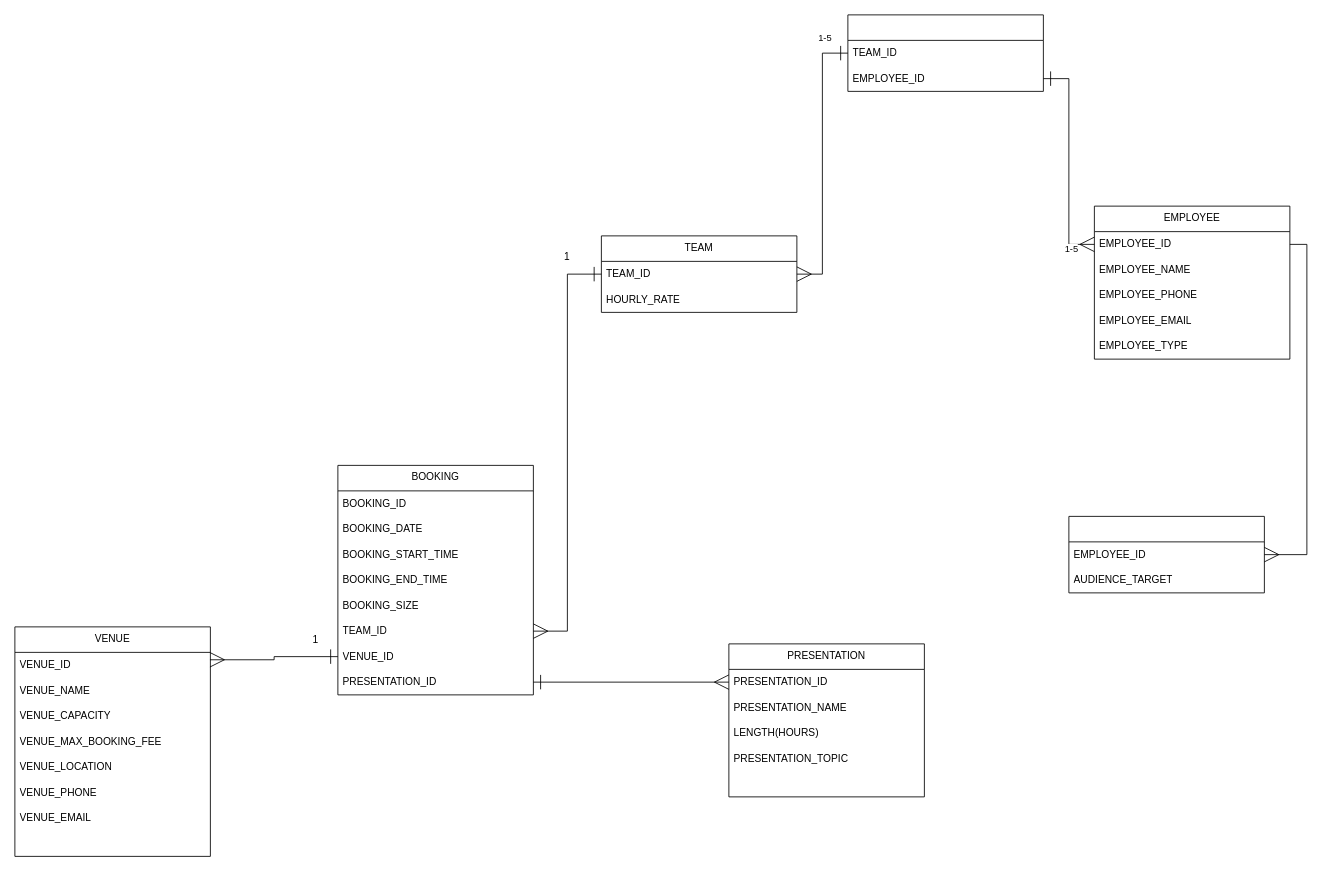
The diagram is 1336 pixels wide and 871 high, and some of its shapes have lost their labels. The shapes that lost their labels are listed below. From the top down, each one's box as (x1, y1, x2, y2) in pixels, then its label:
(847, 14, 1043, 91): TEAM_MEMBER
(1068, 516, 1264, 593): TARGET_AUDIENCE
